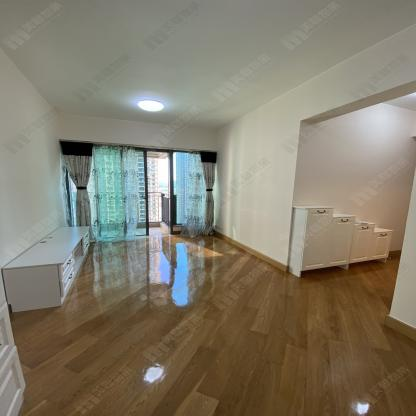Cupboard: (2, 226, 90, 313)
